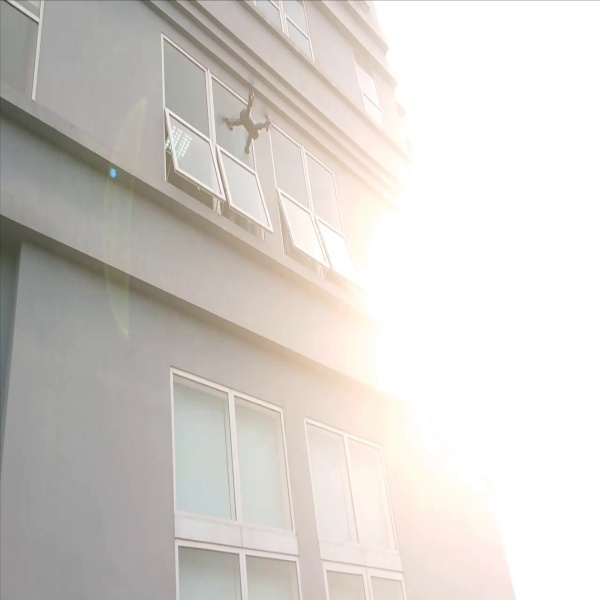drone: (218, 85, 276, 156)
